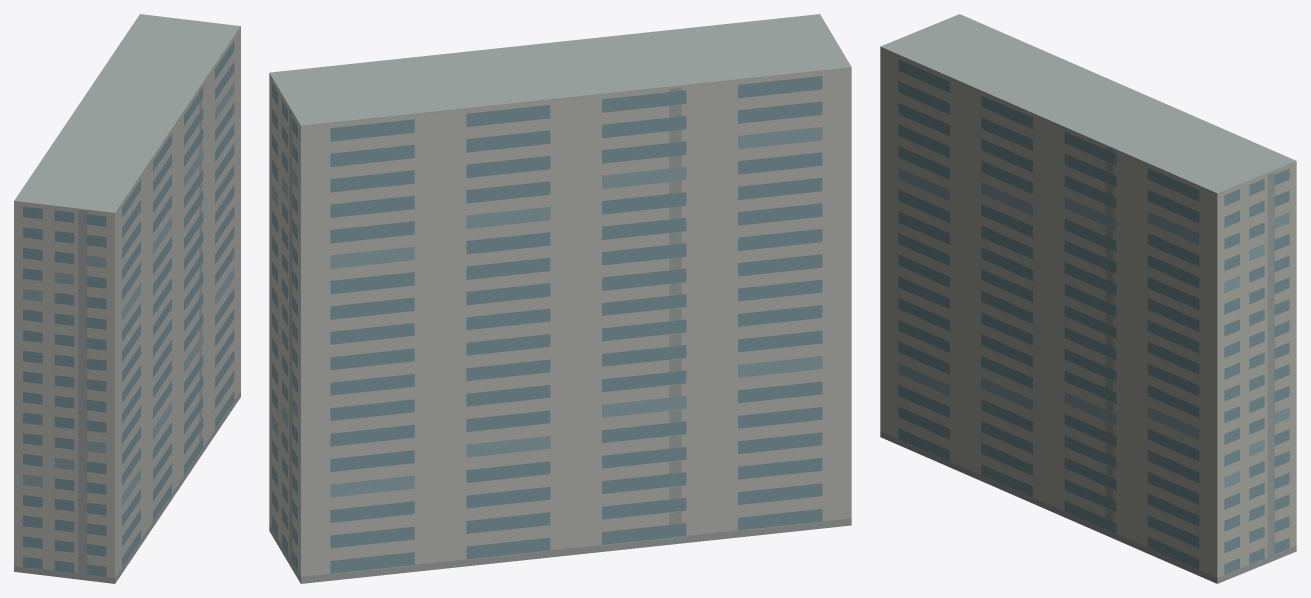
File: residential-a5b24365-1995-49cc-964b-3a455e1c1a27.glb
The picture shows the model from 3 angles, left to right: view 1: azimuth 30°, elevation 25°; view 2: azimuth 150°, elevation 25°; view 3: azimuth 270°, elevation 25°; orthographic projection. The views are drawn at different scales.
Visible parts, largest first — view 1: residential-a5b24365-1995-49cc-964b-3a455e1c1a27.tmp; view 2: residential-a5b24365-1995-49cc-964b-3a455e1c1a27.tmp; view 3: residential-a5b24365-1995-49cc-964b-3a455e1c1a27.tmp.
Boxes of the visible parts, x1=… form: residential-a5b24365-1995-49cc-964b-3a455e1c1a27.tmp: x1=14, y1=14, x2=240, y2=583; residential-a5b24365-1995-49cc-964b-3a455e1c1a27.tmp: x1=269, y1=14, x2=851, y2=583; residential-a5b24365-1995-49cc-964b-3a455e1c1a27.tmp: x1=880, y1=14, x2=1296, y2=583.
Size of the model in its own units: 47.28 by 48 by 46.37.
